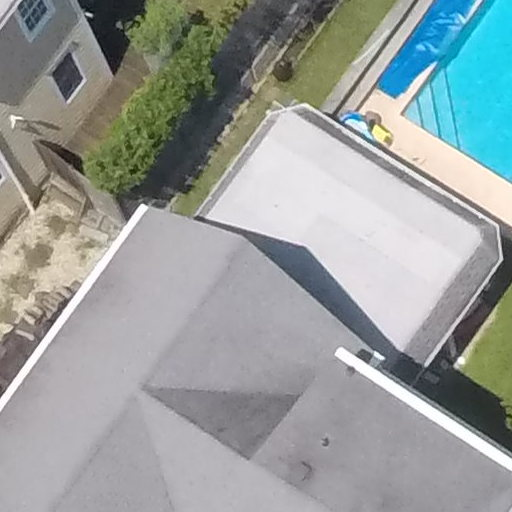pool: (398, 3, 512, 183)
tarp: (354, 3, 487, 108)
